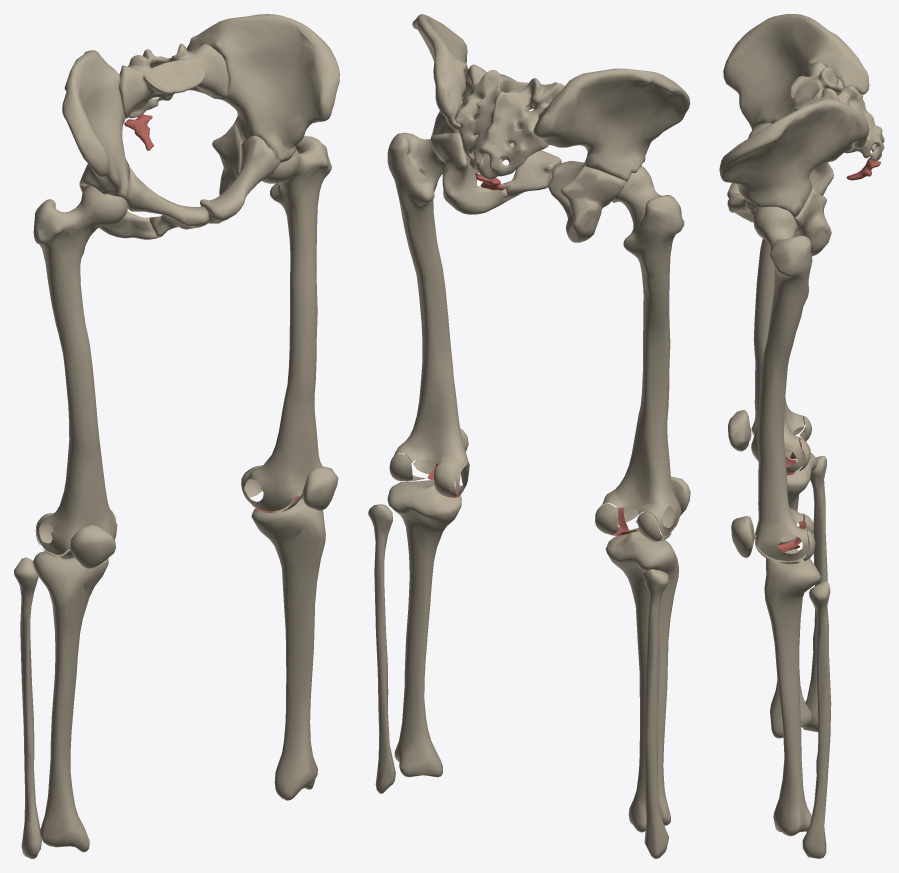
The model's file is adult_female.skeletal.LOD1.glb.
The picture shows the model from 3 angles, left to right: view 1: azimuth 30°, elevation 25°; view 2: azimuth 150°, elevation 25°; view 3: azimuth 270°, elevation 25°; orthographic projection. The views are drawn at different scales.
Parts seen in each view (by area): view 1: ADULT.FEMALE.SKELETAL.FEMUR.R, ADULT.FEMALE.SKELETAL.FEMUR.L, ADULT.FEMALE.SKELETAL.ILIUM_COMPACT_BONE.L, ADULT.FEMALE.SKELETAL.TIBIA.L, ADULT.FEMALE.SKELETAL.TIBIA.R, ADULT.FEMALE.SKELETAL.ILIUM_COMPACT_BONE.R, ADULT.FEMALE.SKELETAL.SACRUM, ADULT.FEMALE.SKELETAL.FIBULA.R, ADULT.FEMALE.SKELETAL.PUBIS_COMPACT_BONE.L, ADULT.FEMALE.SKELETAL.PUBIS_COMPACT_BONE.R, ADULT.FEMALE.SKELETAL.PATELLA.R, ADULT.FEMALE.SKELETAL.PATELLA.L (+2 smaller); view 2: ADULT.FEMALE.SKELETAL.FEMUR.R, ADULT.FEMALE.SKELETAL.FEMUR.L, ADULT.FEMALE.SKELETAL.ILIUM_COMPACT_BONE.R, ADULT.FEMALE.SKELETAL.TIBIA.L, ADULT.FEMALE.SKELETAL.SACRUM, ADULT.FEMALE.SKELETAL.TIBIA.R, ADULT.FEMALE.SKELETAL.FIBULA.R, ADULT.FEMALE.SKELETAL.ILIUM_COMPACT_BONE.L, ADULT.FEMALE.SKELETAL.FIBULA.L, ADULT.FEMALE.SKELETAL.ISCHIUM_COMPACT_BONE.L, ADULT.FEMALE.SKELETAL.ISCHIUM_COMPACT_BONE.R, ADULT.FEMALE.SKELETAL.PUBIS_COMPACT_BONE.L (+2 smaller); view 3: ADULT.FEMALE.SKELETAL.FEMUR.L, ADULT.FEMALE.SKELETAL.ILIUM_COMPACT_BONE.L, ADULT.FEMALE.SKELETAL.ILIUM_COMPACT_BONE.R, ADULT.FEMALE.SKELETAL.TIBIA.L, ADULT.FEMALE.SKELETAL.FIBULA.L, ADULT.FEMALE.SKELETAL.FEMUR.R, ADULT.FEMALE.SKELETAL.SACRUM, ADULT.FEMALE.SKELETAL.FIBULA.R, ADULT.FEMALE.SKELETAL.TIBIA.R, ADULT.FEMALE.SKELETAL.ISCHIUM_COMPACT_BONE.L, ADULT.FEMALE.SKELETAL.PATELLA.L, ADULT.FEMALE.SKELETAL.PATELLA.R (+2 smaller).
Part boxes in pixels (box(x1,y1,x2,y2)): ADULT.FEMALE.SKELETAL.FEMUR.R: box(33, 185, 127, 554); ADULT.FEMALE.SKELETAL.FEMUR.L: box(241, 136, 331, 511); ADULT.FEMALE.SKELETAL.ILIUM_COMPACT_BONE.L: box(186, 14, 339, 163); ADULT.FEMALE.SKELETAL.TIBIA.L: box(251, 494, 325, 800); ADULT.FEMALE.SKELETAL.TIBIA.R: box(33, 551, 108, 852); ADULT.FEMALE.SKELETAL.ILIUM_COMPACT_BONE.R: box(62, 50, 129, 197); ADULT.FEMALE.SKELETAL.SACRUM: box(119, 43, 228, 118); ADULT.FEMALE.SKELETAL.FIBULA.R: box(14, 557, 41, 858); ADULT.FEMALE.SKELETAL.PUBIS_COMPACT_BONE.L: box(200, 135, 280, 223); ADULT.FEMALE.SKELETAL.PUBIS_COMPACT_BONE.R: box(123, 166, 209, 237); ADULT.FEMALE.SKELETAL.PATELLA.R: box(69, 524, 115, 568); ADULT.FEMALE.SKELETAL.PATELLA.L: box(302, 466, 338, 510); ADULT.FEMALE.SKELETAL.FEMUR.R: box(600, 165, 684, 536); ADULT.FEMALE.SKELETAL.FEMUR.L: box(387, 132, 469, 494); ADULT.FEMALE.SKELETAL.ILIUM_COMPACT_BONE.R: box(533, 68, 690, 181); ADULT.FEMALE.SKELETAL.TIBIA.L: box(387, 480, 461, 777); ADULT.FEMALE.SKELETAL.SACRUM: box(455, 64, 564, 179); ADULT.FEMALE.SKELETAL.TIBIA.R: box(605, 528, 678, 832); ADULT.FEMALE.SKELETAL.FIBULA.R: box(643, 569, 669, 858); ADULT.FEMALE.SKELETAL.ILIUM_COMPACT_BONE.L: box(412, 14, 476, 135); ADULT.FEMALE.SKELETAL.FIBULA.L: box(368, 504, 395, 793); ADULT.FEMALE.SKELETAL.ISCHIUM_COMPACT_BONE.L: box(431, 133, 507, 214); ADULT.FEMALE.SKELETAL.ISCHIUM_COMPACT_BONE.R: box(560, 166, 626, 242); ADULT.FEMALE.SKELETAL.PUBIS_COMPACT_BONE.L: box(475, 134, 561, 201); ADULT.FEMALE.SKELETAL.FEMUR.L: box(753, 206, 812, 561); ADULT.FEMALE.SKELETAL.ILIUM_COMPACT_BONE.L: box(719, 98, 869, 217); ADULT.FEMALE.SKELETAL.ILIUM_COMPACT_BONE.R: box(723, 14, 869, 129); ADULT.FEMALE.SKELETAL.TIBIA.L: box(764, 548, 820, 836); ADULT.FEMALE.SKELETAL.FIBULA.L: box(802, 581, 831, 858); ADULT.FEMALE.SKELETAL.FEMUR.R: box(751, 239, 804, 473); ADULT.FEMALE.SKELETAL.SACRUM: box(790, 61, 884, 160); ADULT.FEMALE.SKELETAL.FIBULA.R: box(802, 456, 827, 731); ADULT.FEMALE.SKELETAL.TIBIA.R: box(770, 448, 817, 738); ADULT.FEMALE.SKELETAL.ISCHIUM_COMPACT_BONE.L: box(794, 186, 831, 256); ADULT.FEMALE.SKELETAL.PATELLA.L: box(731, 516, 754, 557); ADULT.FEMALE.SKELETAL.PATELLA.R: box(728, 410, 751, 451).
Bounding box in the file's own units: 0.3597 × 0.8979 × 0.1827.
